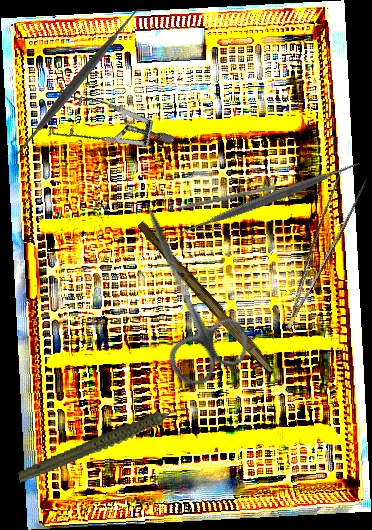Handpiece: (12, 405, 197, 484)
Iris Scissors: (106, 188, 259, 393)
Scalpel Handle: (133, 219, 279, 375)
Spatula Surgical: (167, 96, 371, 300), (6, 9, 148, 156), (163, 180, 275, 215)
Speculum: (30, 54, 177, 203)
Tissue Forceps: (262, 165, 372, 330)
